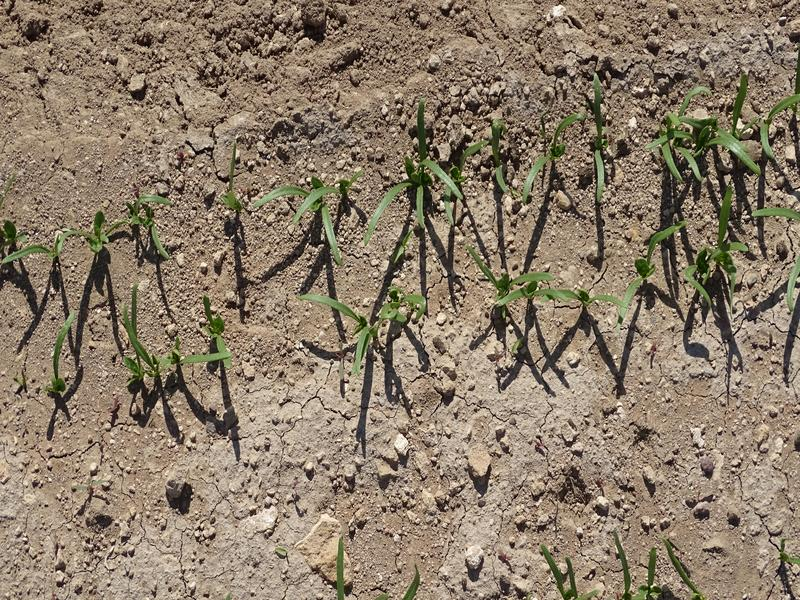Espinaca: (366, 118, 508, 237), (12, 185, 169, 276), (654, 84, 781, 175), (297, 275, 433, 353), (107, 303, 231, 384), (681, 194, 745, 307), (483, 262, 621, 309), (621, 225, 683, 319), (271, 173, 347, 246), (521, 117, 580, 205), (45, 313, 77, 396), (592, 78, 610, 201)
